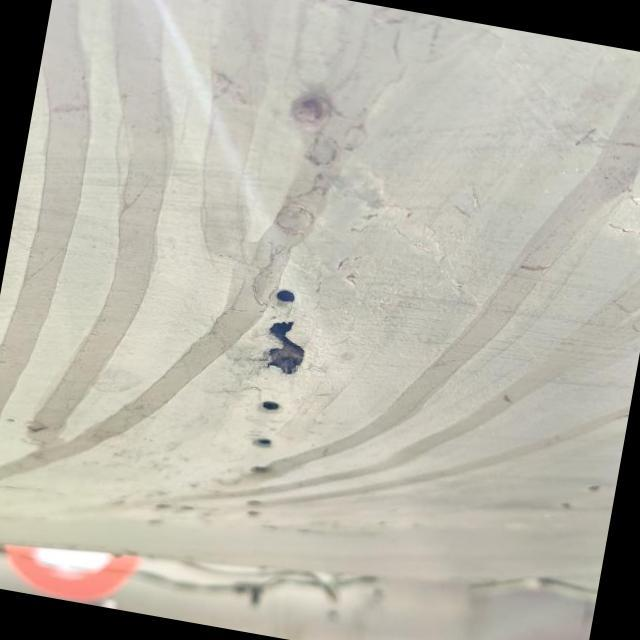Rupture: (234, 298, 332, 396)
